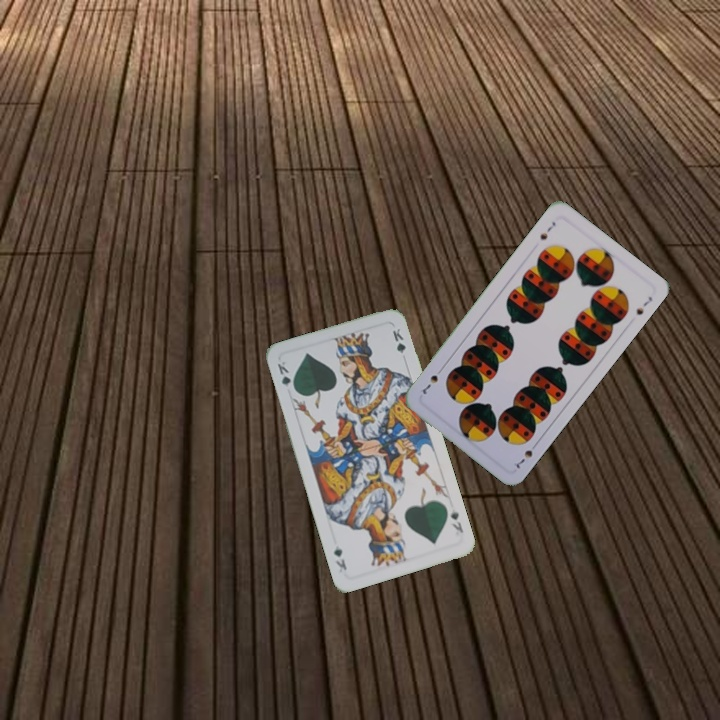GK: (273, 357, 298, 394), (446, 504, 466, 535)
S7: (510, 438, 541, 473), (536, 217, 558, 242)
